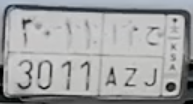0: (37, 30, 52, 92)
1: (78, 18, 94, 93), (61, 20, 74, 92)
3: (16, 17, 33, 93)
A: (105, 25, 118, 90)
J: (143, 24, 160, 89)
Z: (124, 26, 138, 87)
